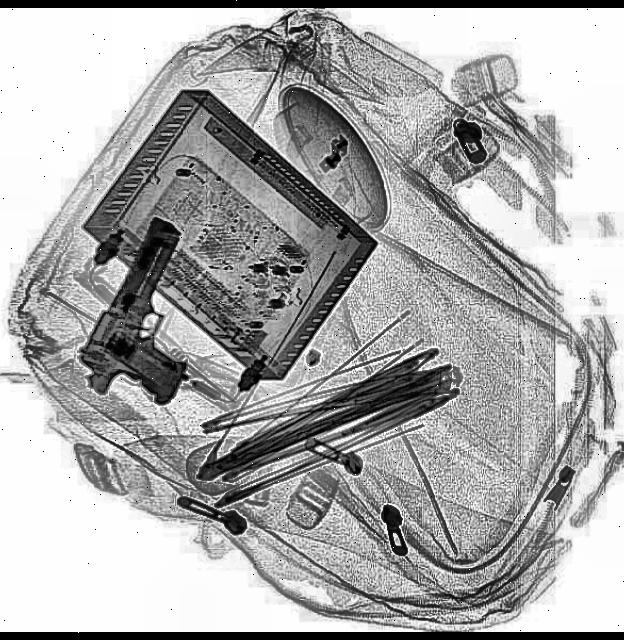Gun: (64, 209, 240, 427)
